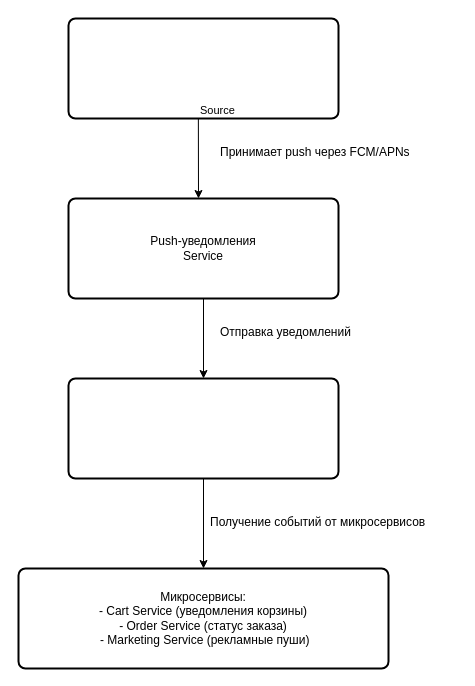
This 475x686 diagram has some shape labels left out. The centre of each missing label's shape, as x and y in pixels:
"Event Broker / Queue (Kafka / RabbitMQ / SQS)" belongs at (203,428).
"Мобильно приложение (iOS/Android)" belongs at (203,68).
